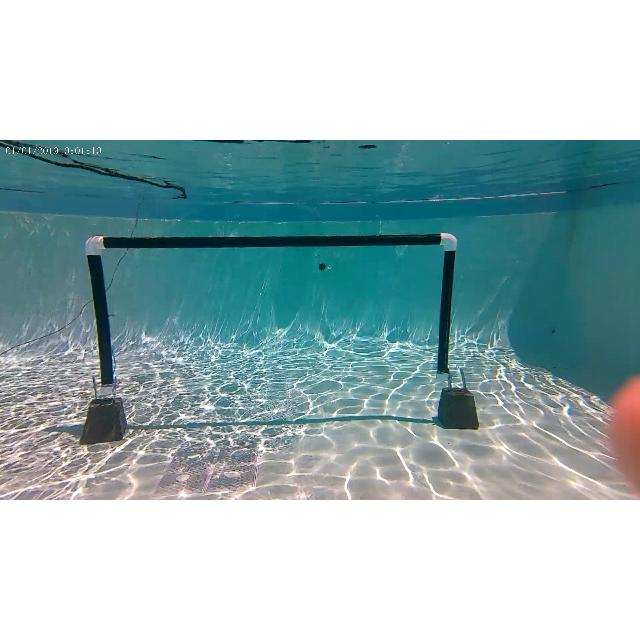prequal gate: (86, 234, 454, 372)
prequal gate leg l: (84, 232, 122, 396)
prequal gate leg r: (432, 232, 462, 378)
